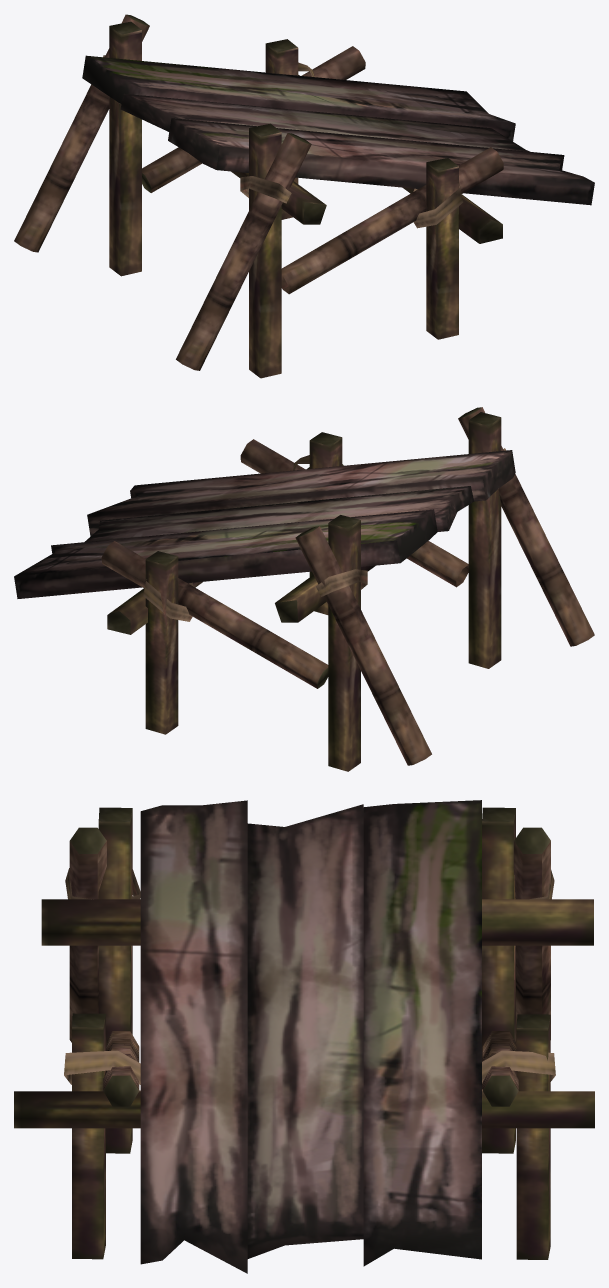
File: STR_StairWoodA.FBX
The picture shows the model from 3 angles, top to bottom: view 1: azimuth 30°, elevation 25°; view 2: azimuth 150°, elevation 25°; view 3: azimuth 270°, elevation 25°; orthographic projection. The views are drawn at different scales.
Visible parts, largest first — view 1: STR_StairWoodA; view 2: STR_StairWoodA; view 3: STR_StairWoodA.
Part boxes in pixels (x1,y1,x2,y2): STR_StairWoodA: (14,14,594,378); STR_StairWoodA: (14,407,594,771); STR_StairWoodA: (14,800,594,1273).
Size of the model in its own units: 373 by 194 by 308.
